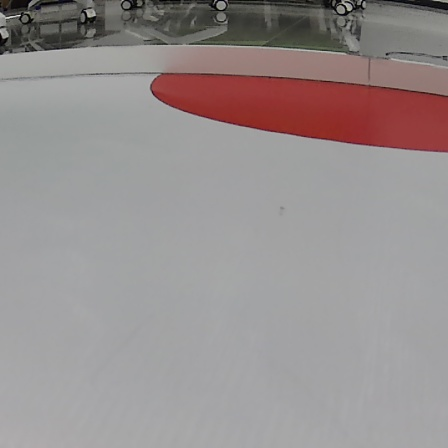red_base: (146, 63, 448, 158)
